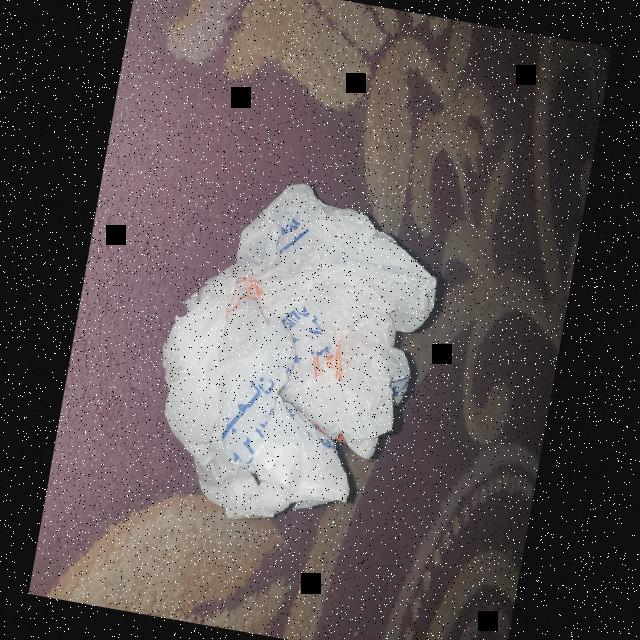plastic_bag: (127, 152, 463, 554)
